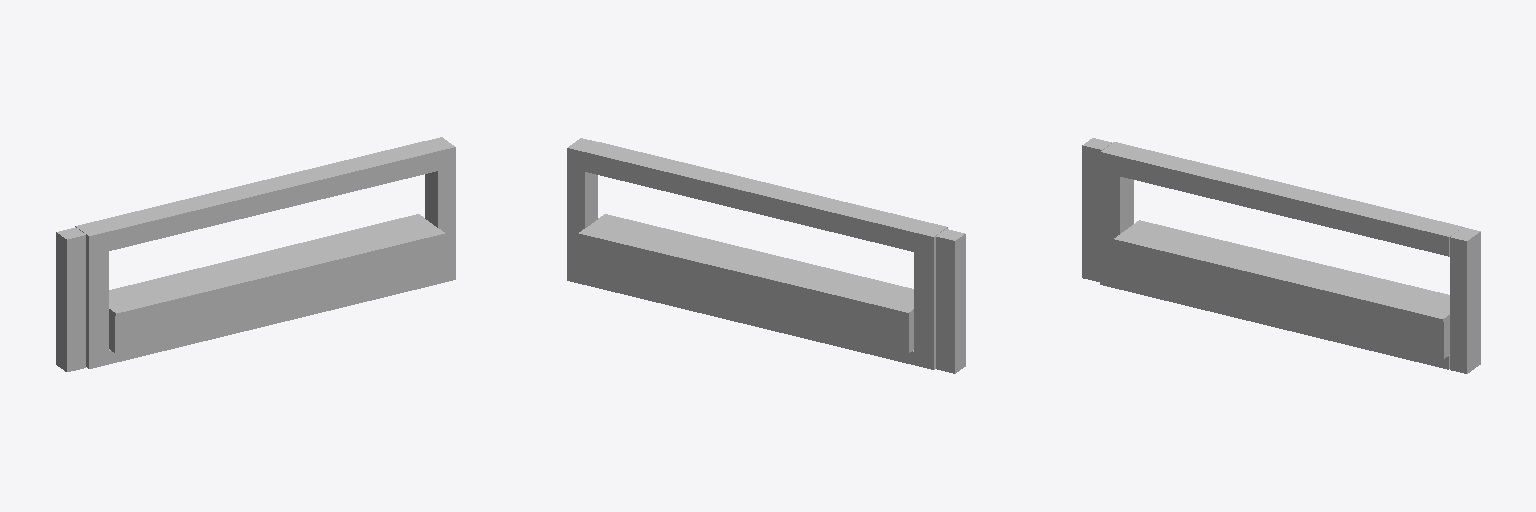
The model's file is kitchen1.obj.
3 views of the same model, side by side, from view 1: azimuth 30°, elevation 25°; view 2: azimuth 150°, elevation 25°; view 3: azimuth 330°, elevation 25° (orthographic).
Visible parts, largest first — view 1: Plane.008_Plane.006; view 2: Plane.008_Plane.006; view 3: Plane.008_Plane.006.
Part boxes in pixels (left/top/right/bottom): Plane.008_Plane.006: left=56, top=137, right=455, bottom=371; Plane.008_Plane.006: left=567, top=138, right=965, bottom=373; Plane.008_Plane.006: left=1082, top=138, right=1480, bottom=373.
Bounding box in the file's own units: 2756 × 907 × 332.